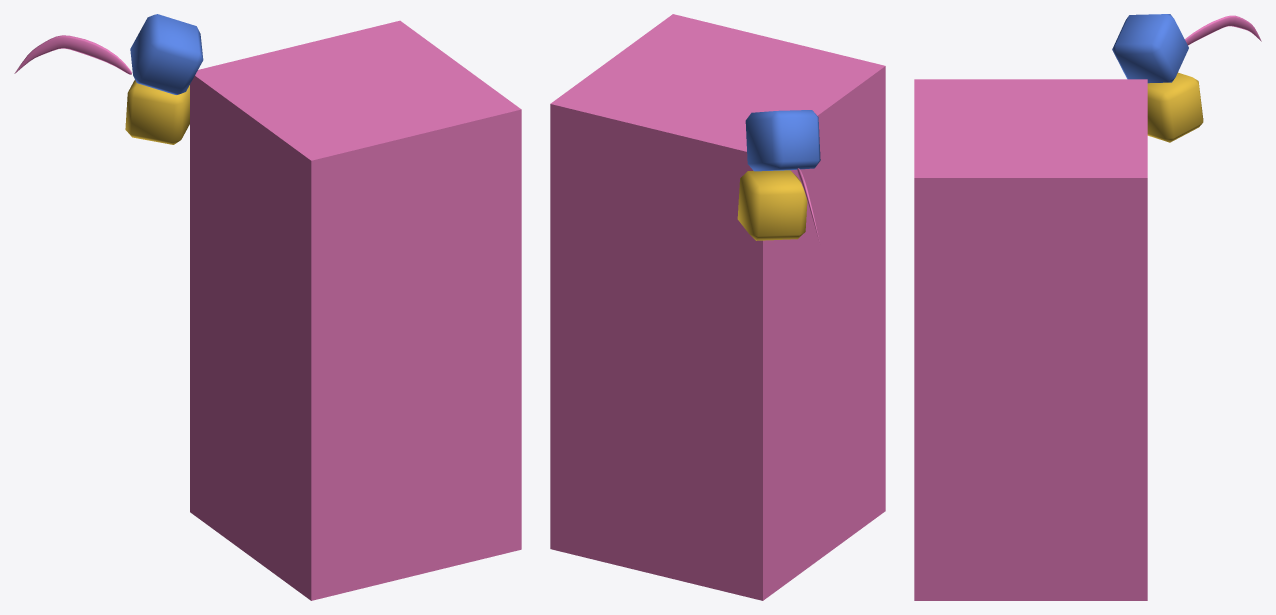
Rendered from bocchi_the_coob.fbx.
3 renders of one model, left to right at view 1: azimuth 30°, elevation 25°; view 2: azimuth 150°, elevation 25°; view 3: azimuth 270°, elevation 25°, orthographic. The views are drawn at different scales.
Parts seen in each view (by area): view 1: Cube.001, Cube, Cube.002, Plane; view 2: Cube.001, Cube.002, Cube; view 3: Cube.001, Cube, Cube.002, Plane.
Boxes of the visible parts, x1,y1,x2,y2 form: Cube.001: (190,20,521,600); Cube: (130,14,203,94); Cube.002: (125,80,189,144); Plane: (14,35,131,74); Cube.001: (550,14,885,600); Cube.002: (737,170,807,240); Cube: (745,110,820,171); Cube.001: (914,79,1147,600); Cube: (1112,14,1188,83); Cube.002: (1147,72,1203,142); Plane: (1185,15,1261,45).
Size of the model in its own units: 621 by 903 by 595.
